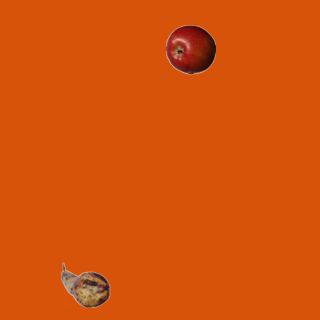Apple Braeburn: (165, 24, 215, 74)
Pear Abate: (60, 260, 110, 310)
